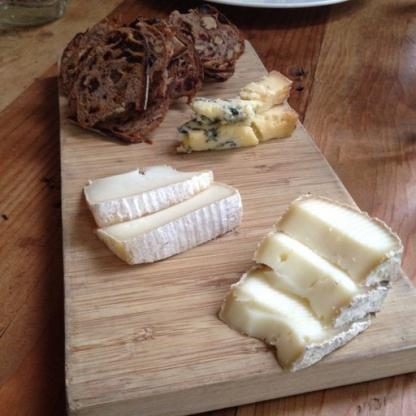cheese: (228, 193, 393, 370), (80, 168, 238, 263)
